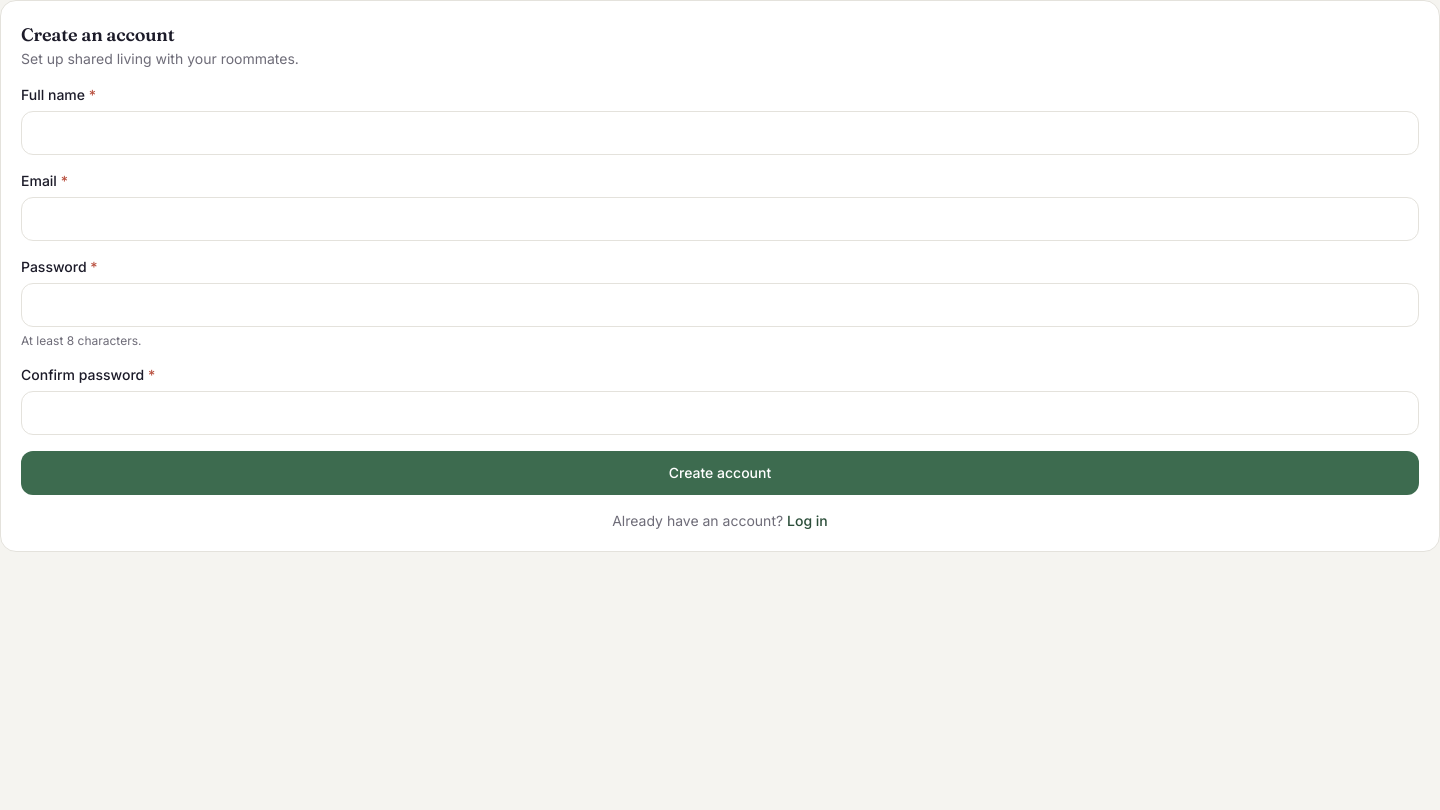
Test: RegisterPage › validates password length and password match
Type "John Doe" into the field labelled "Full name *".
click(720, 133); type("John Doe")  # box [21,111,1419,155]
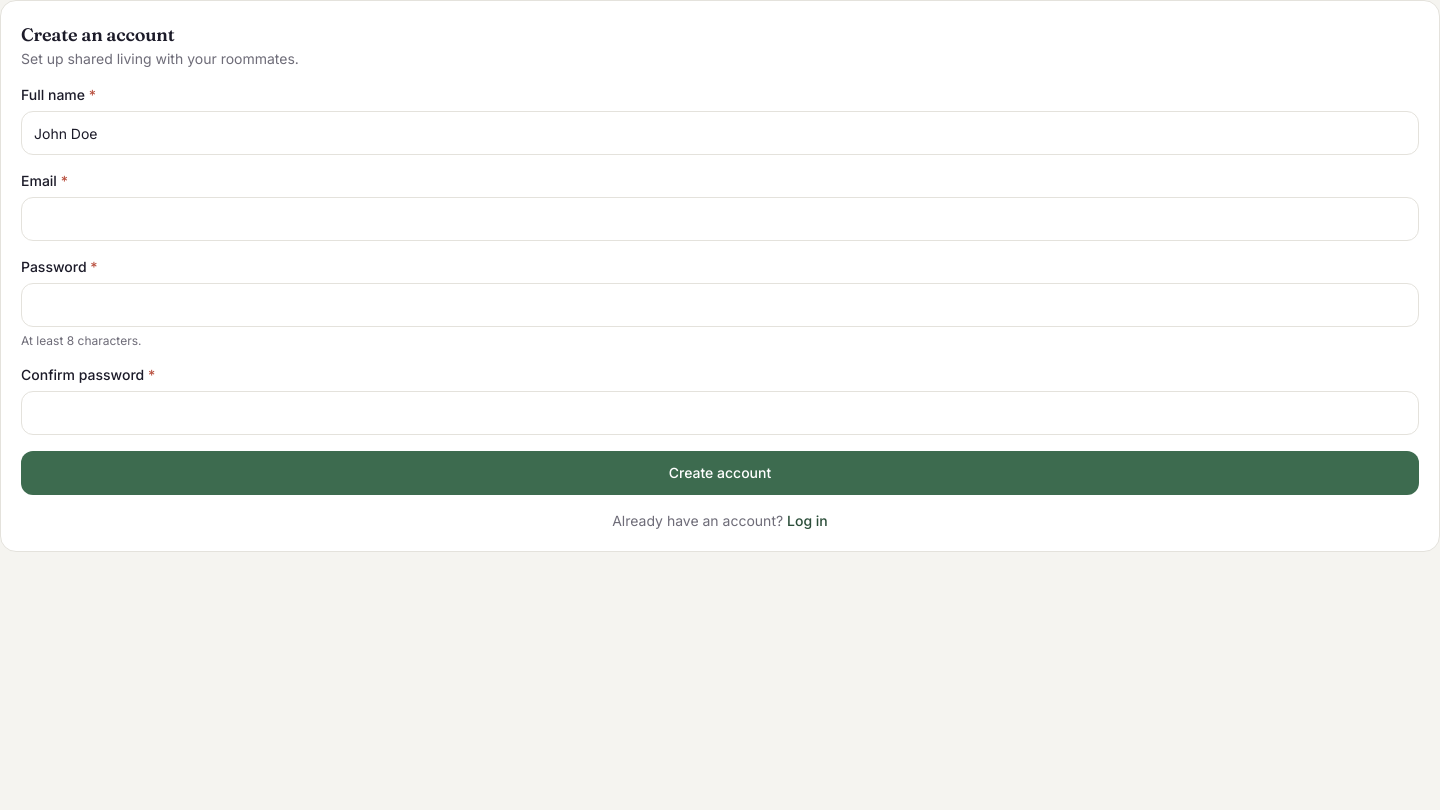
Type "john@example.com" into the field labelled "Email *".
click(720, 219); type("john@example.com")  # box [21,197,1419,241]
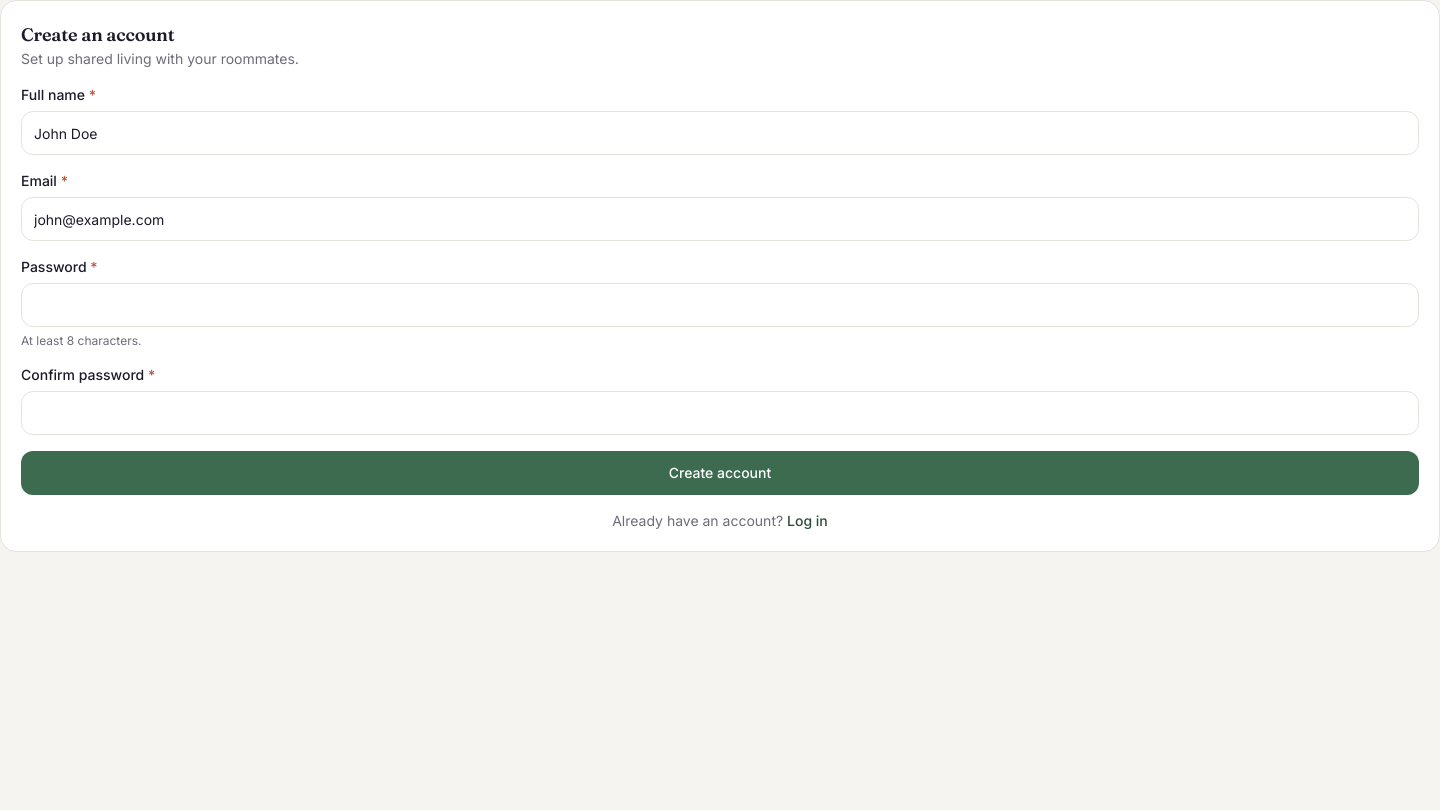
Type "short" into the password field labelled "Password *".
click(720, 305); type("short")  # box [21,283,1419,327]
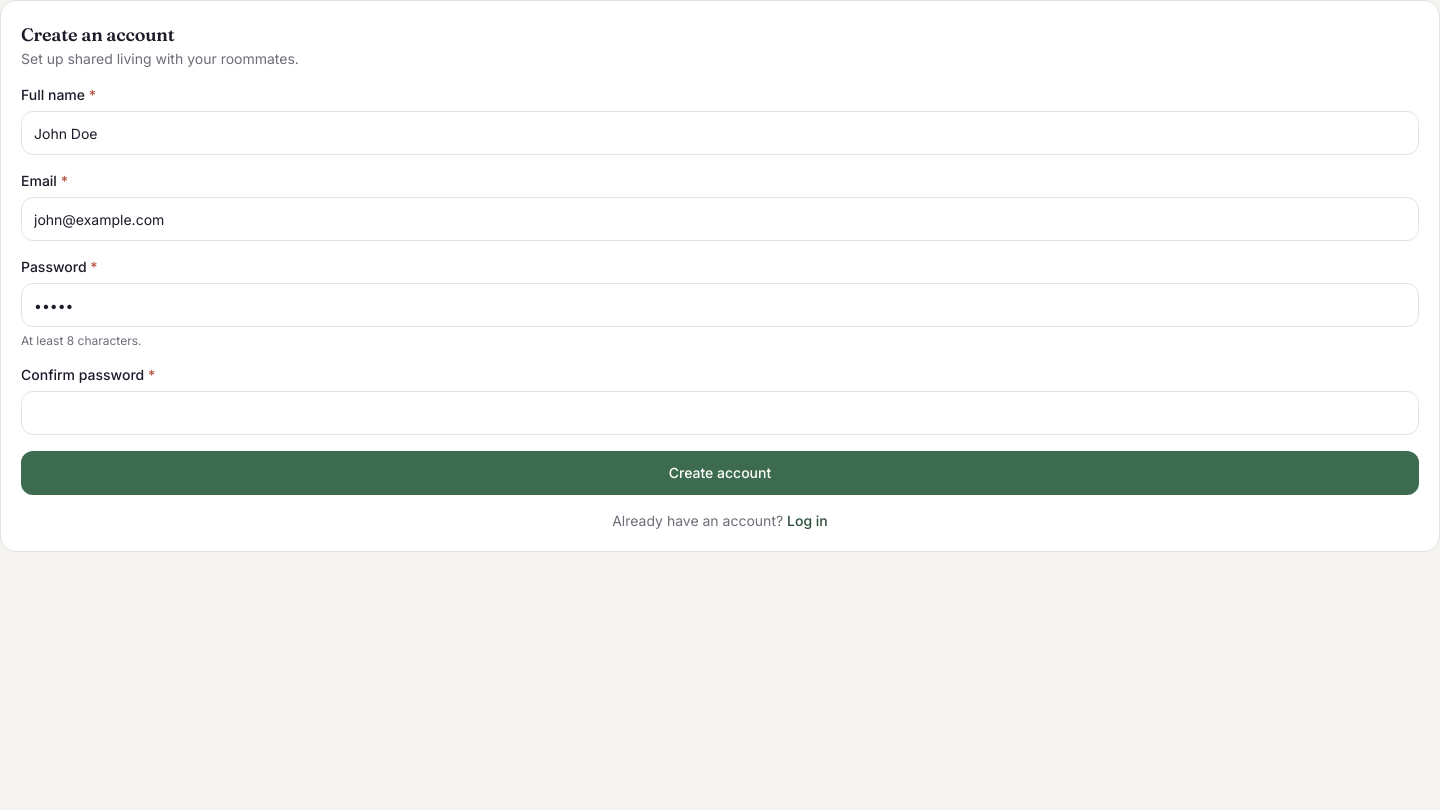
Type "mismatch" into the password field labelled "Confirm password *".
click(720, 413); type("mismatch")  # box [21,391,1419,435]
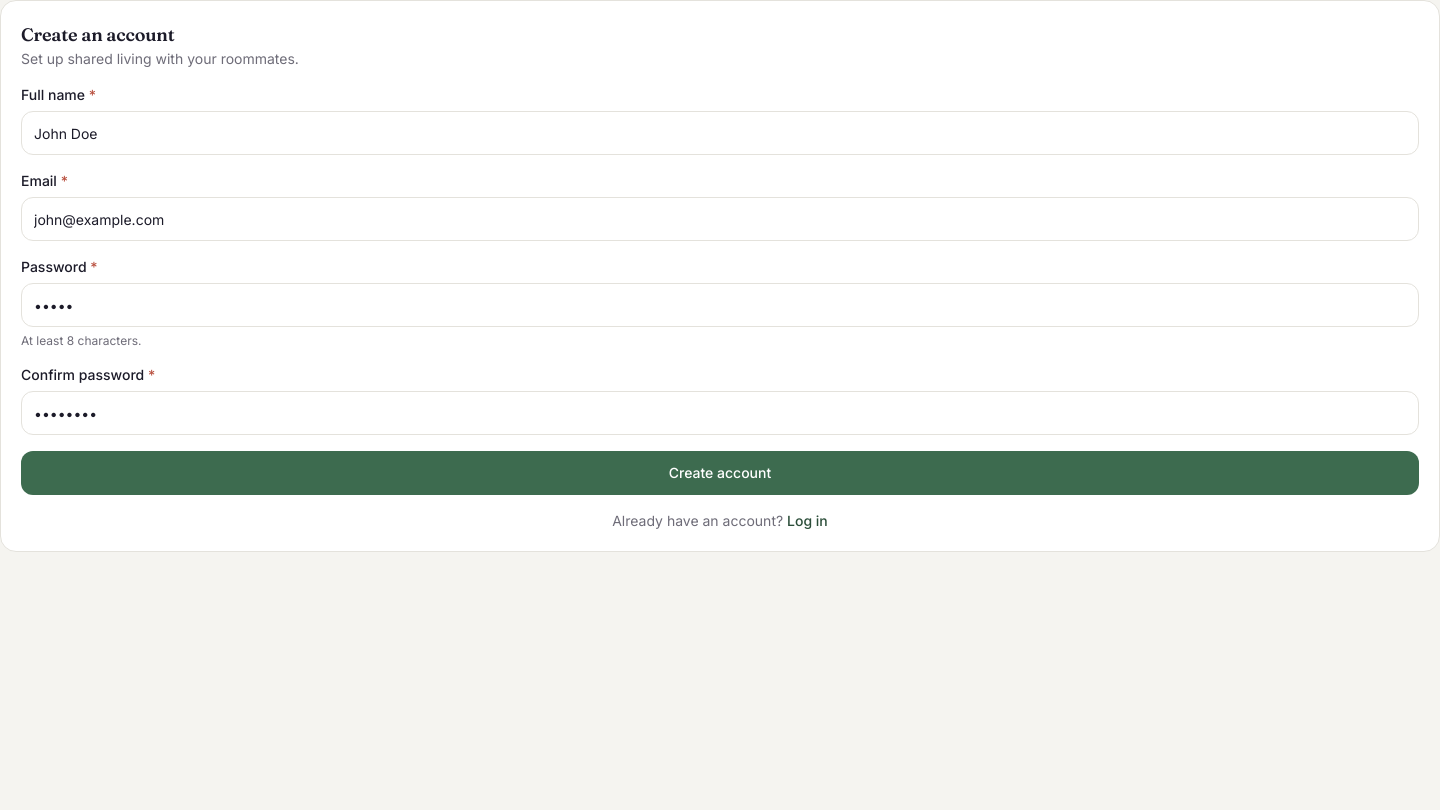
Click the button "Create account".
click(720, 473)  # box [21,451,1419,495]
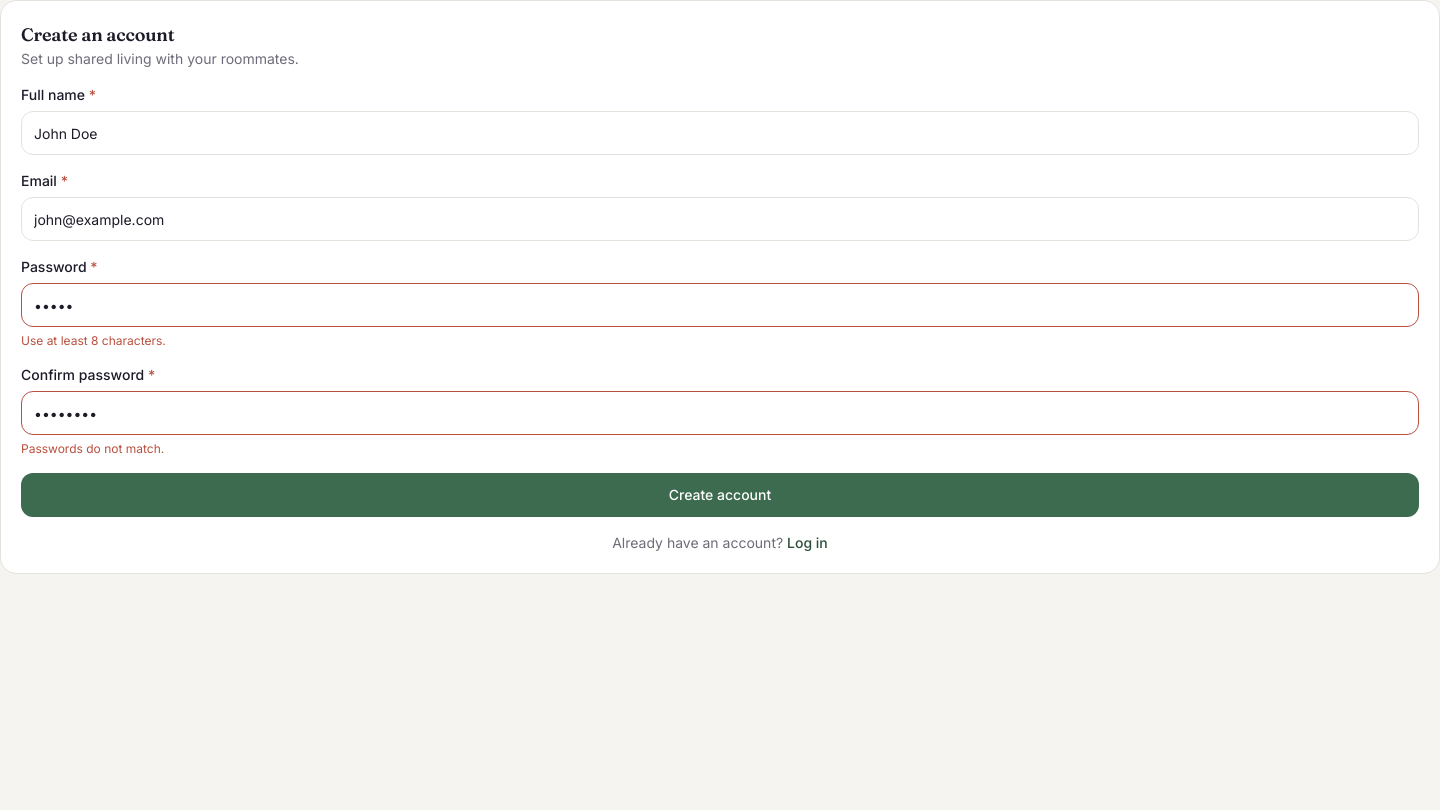
Expected: the text "Use at least 8 characters." is shown, [21,333,166,348]
Expected: the text "Passwords do not match." is shown, [21,441,164,456]
